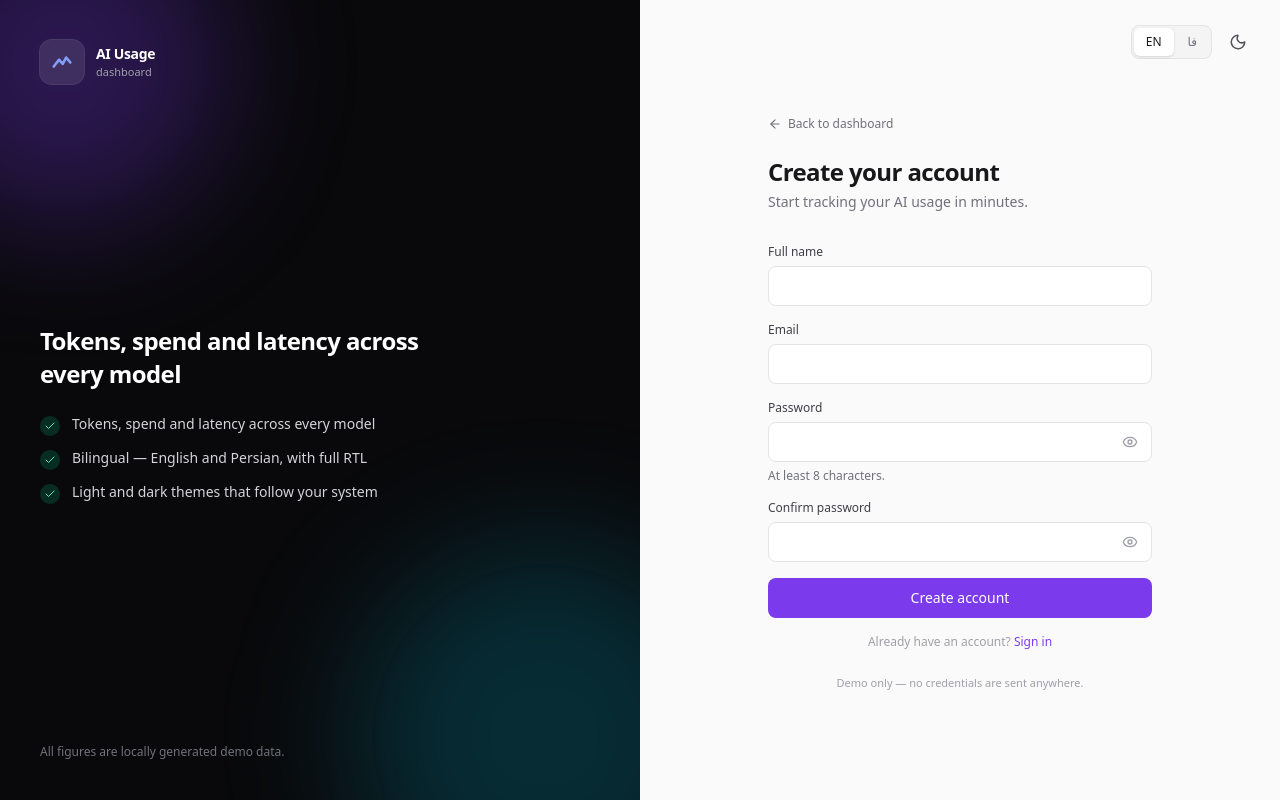
Test: register page › rejects mismatched password confirmation
Expected: the heading "Create your account" is shown, [768,155,999,188]
In the field labelled "Full name": (960, 286) [768,266,1152,306], type "Ali Reza"
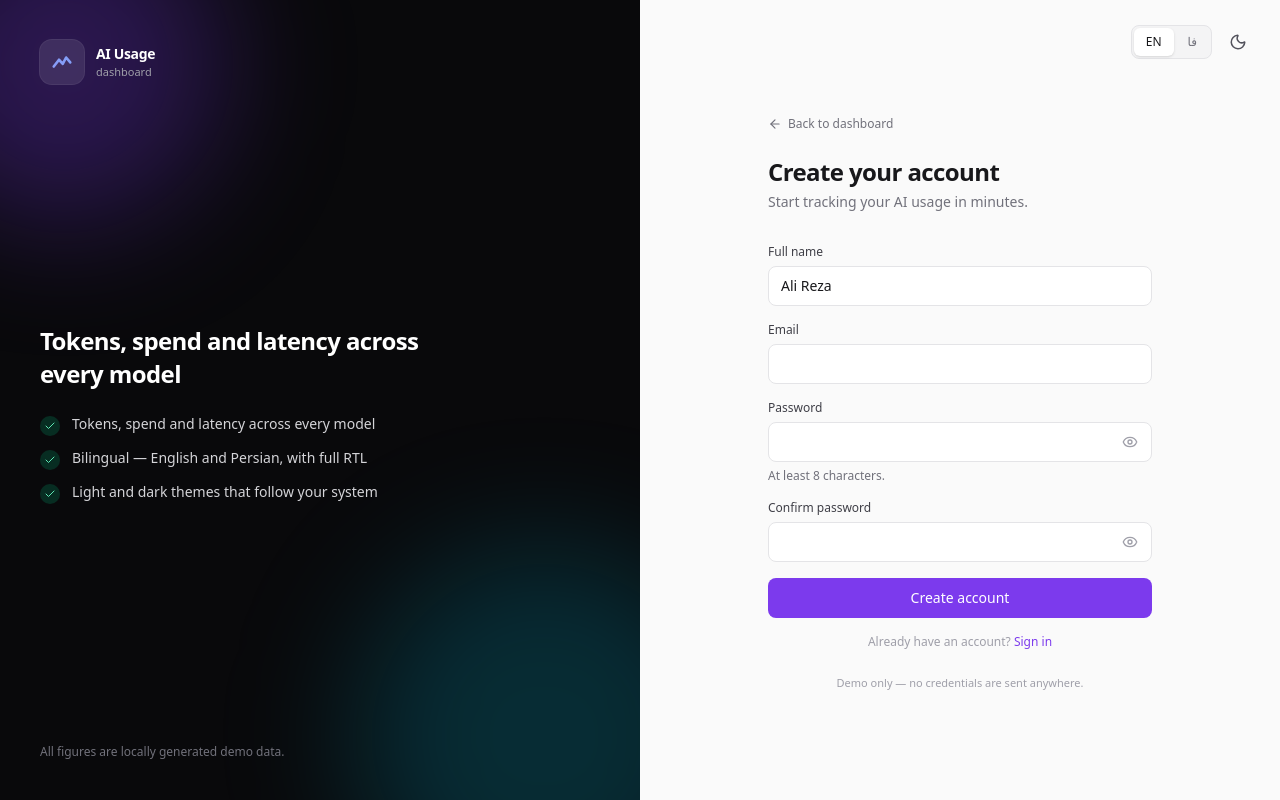
In the field labelled "Email": (960, 364) [768,344,1152,384], type "ali@example.com"
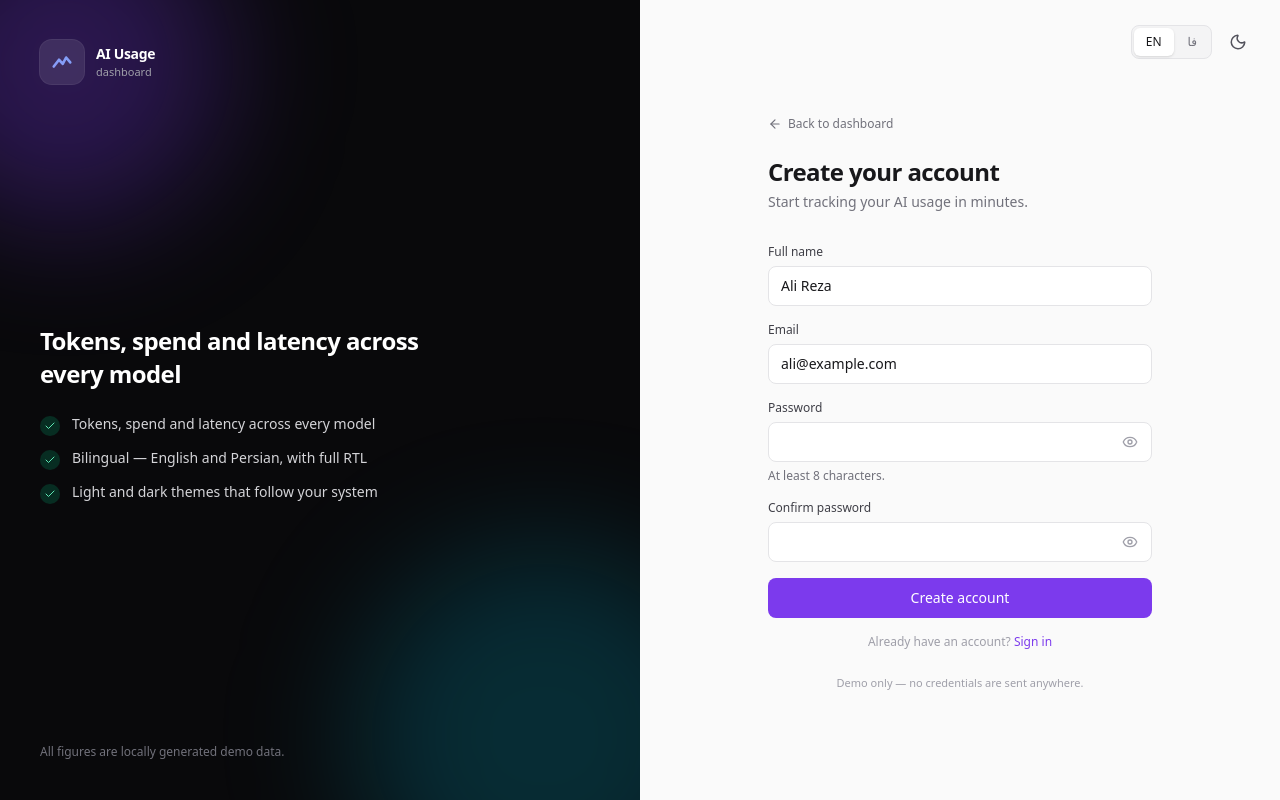
In the password field labelled "Password": (960, 442) [768,422,1152,462], type "secret123"
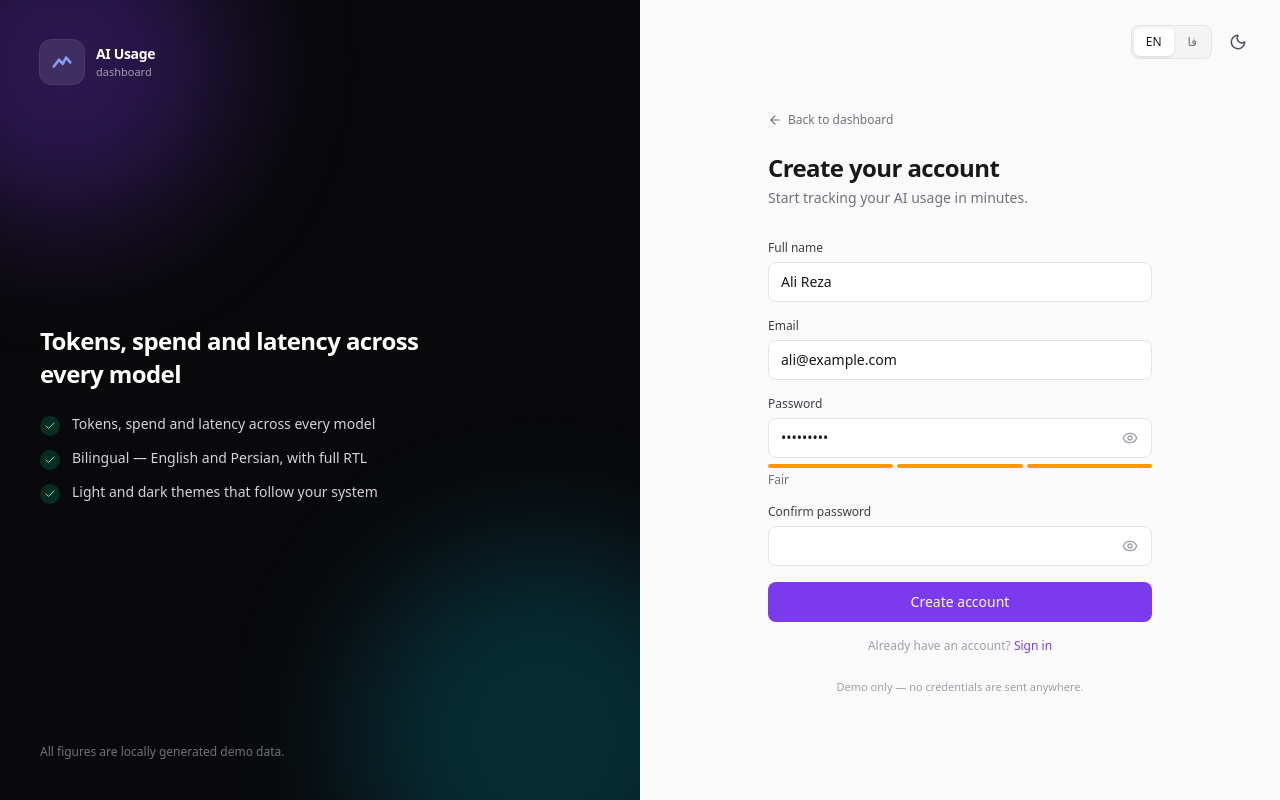
In the password field labelled "Confirm password": (960, 546) [768,526,1152,566], type "different123"
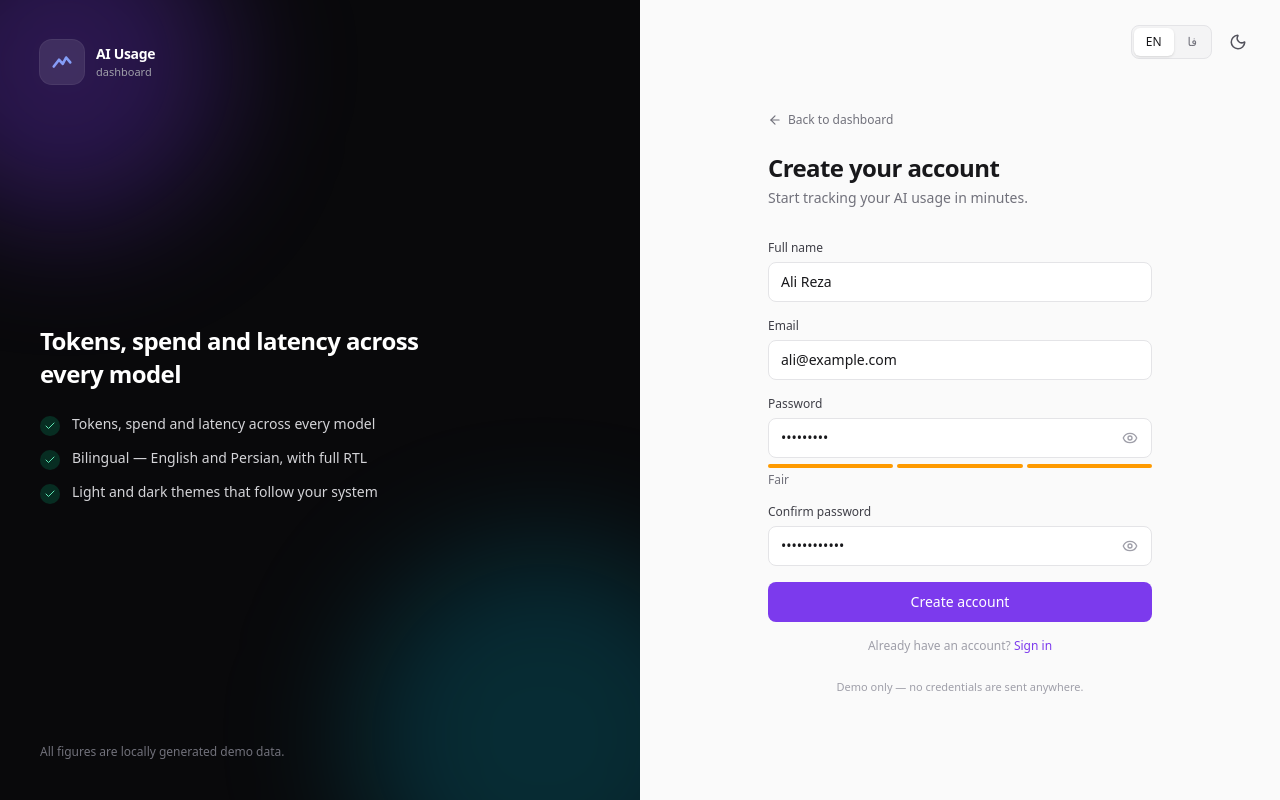
Click the button "Create account": (960, 602) [768,582,1152,622]
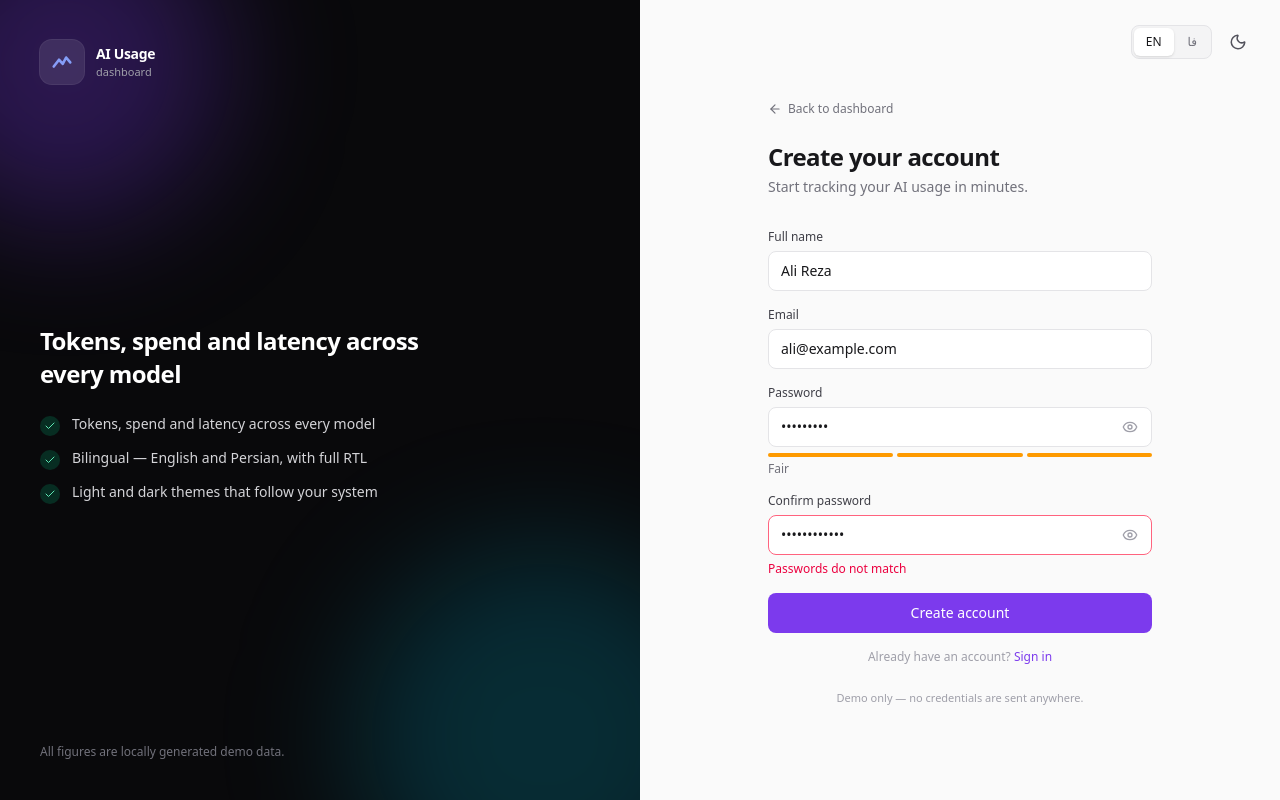
Expected: the text "Passwords do not match" is shown, [768,560,906,577]
